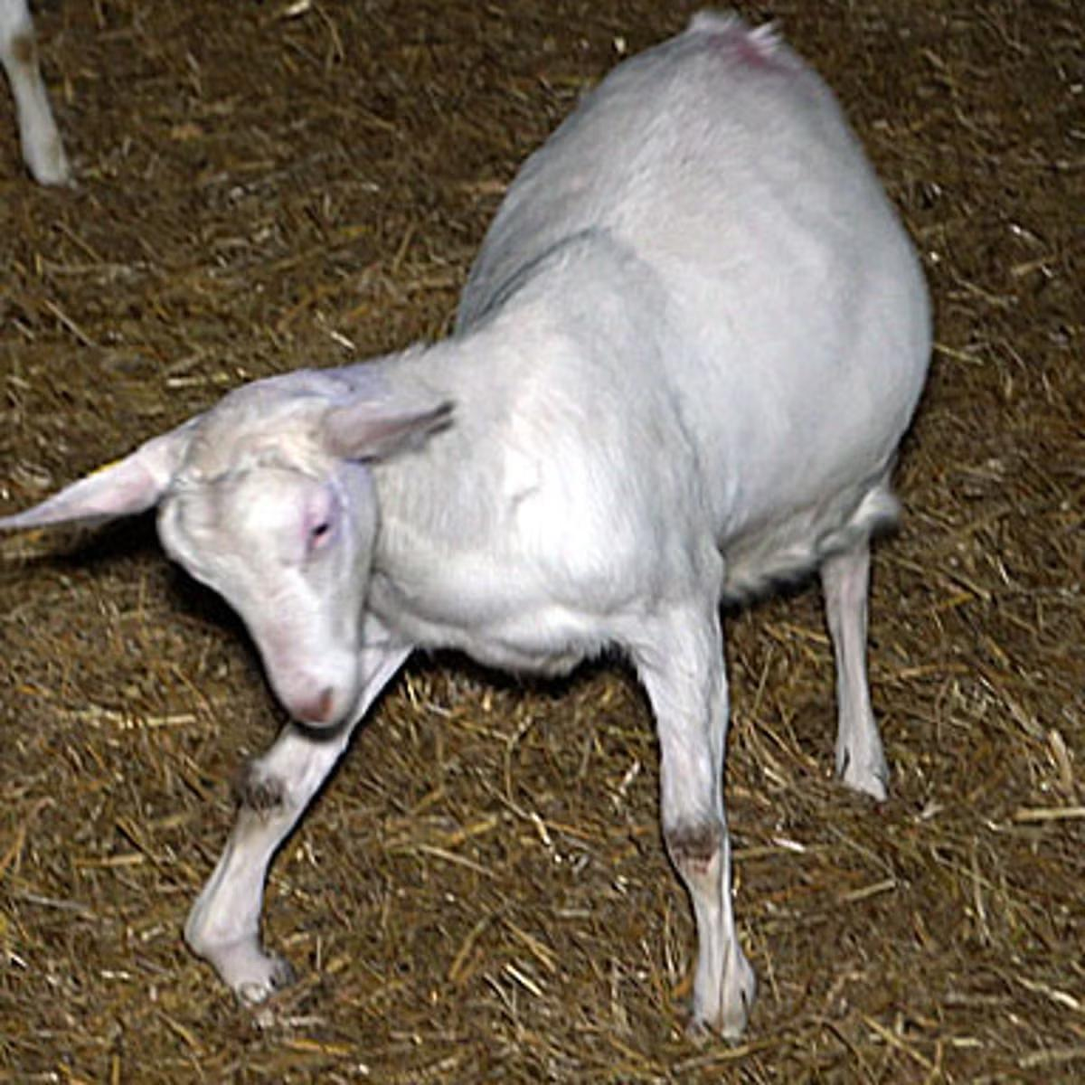fracture: (114, 755, 378, 1043)
